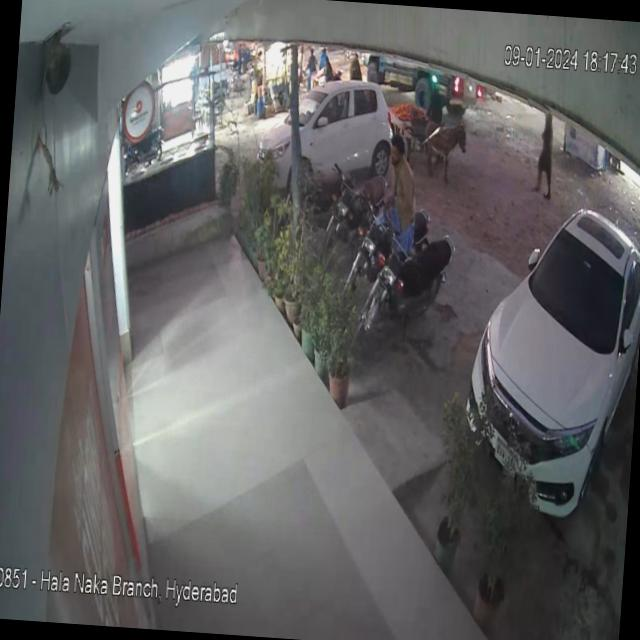Car: (456, 158, 640, 533), (236, 60, 402, 186)
Motorcycle: (348, 244, 462, 360), (334, 197, 436, 300), (326, 162, 394, 254)
